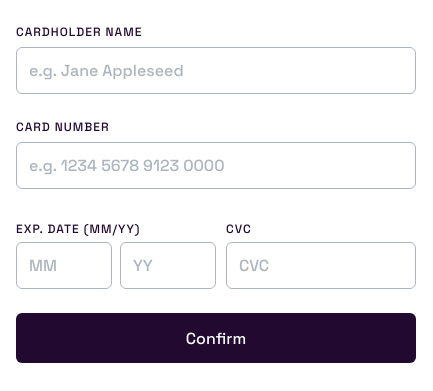
Scenario: FormDetails.vue › validates card number accepts only digits
Type "abcd" into the field labelled "Card Number" at point(216, 166), box [16,142,416,189]
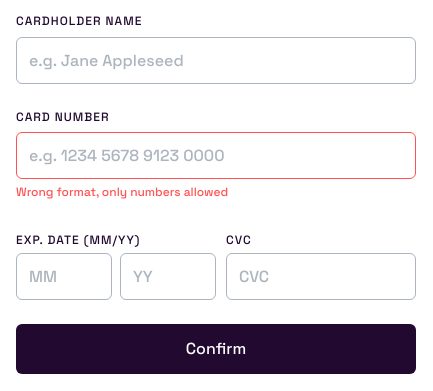
Expected: the text "Wrong format, only numbers allowed" is shown, [16,184,228,200]
